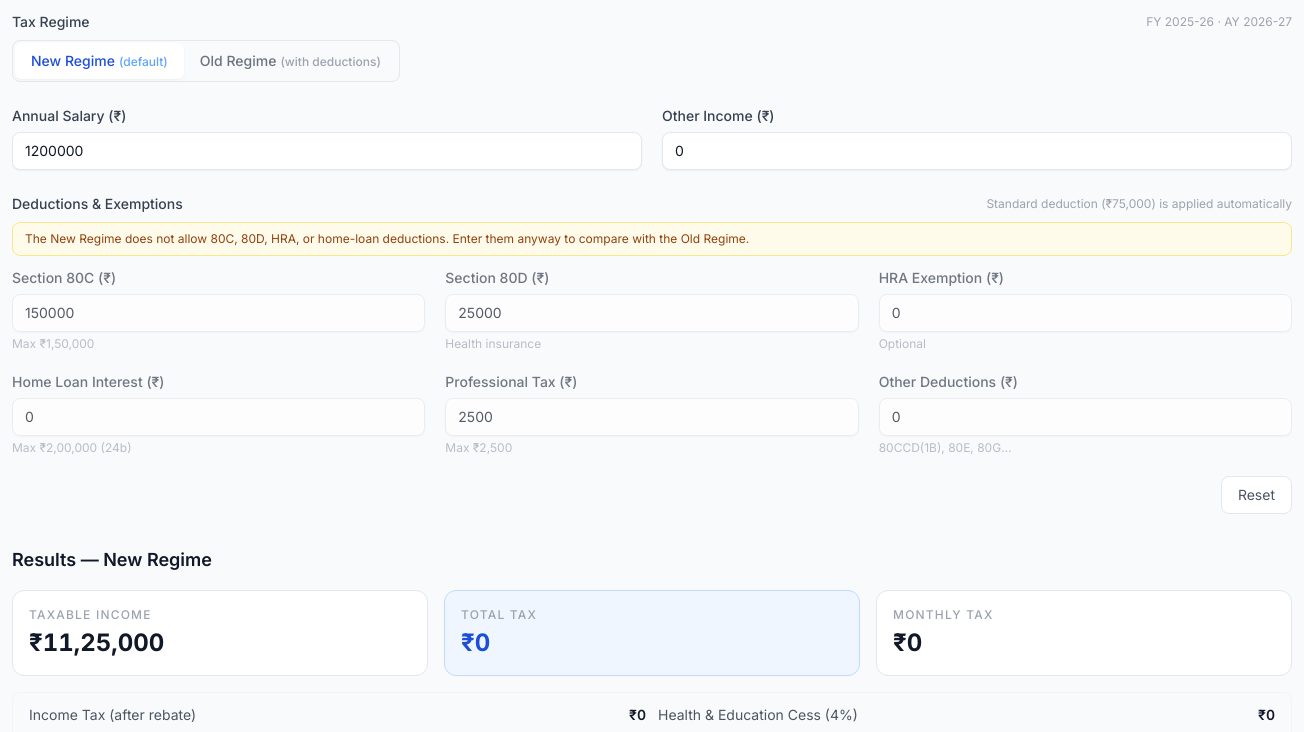
Test: IncomeTaxCalculator › reset restores default salary
Replace the text in the number field labelled "Annual Salary (₹)" with "9999999" at (327, 151), box [12,132,642,170]
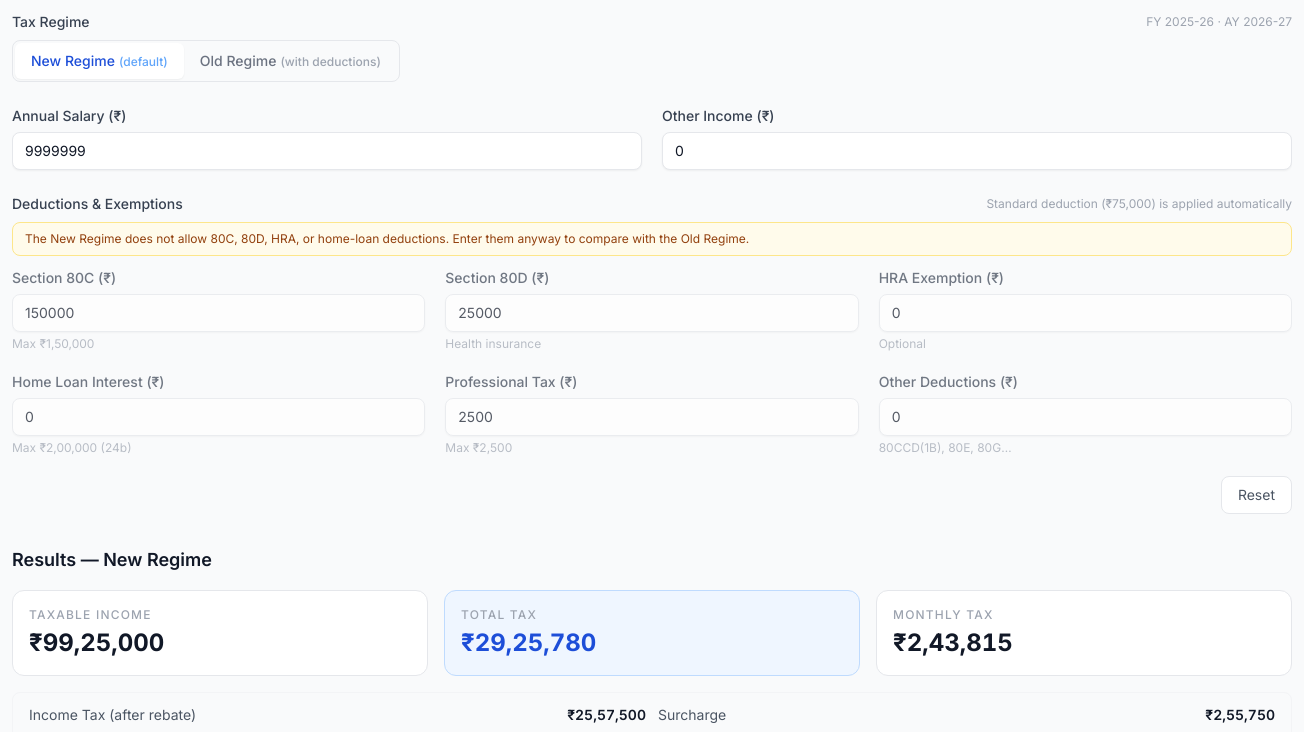
Click the button "Reset" at (1256, 495), box [1221,476,1292,514]
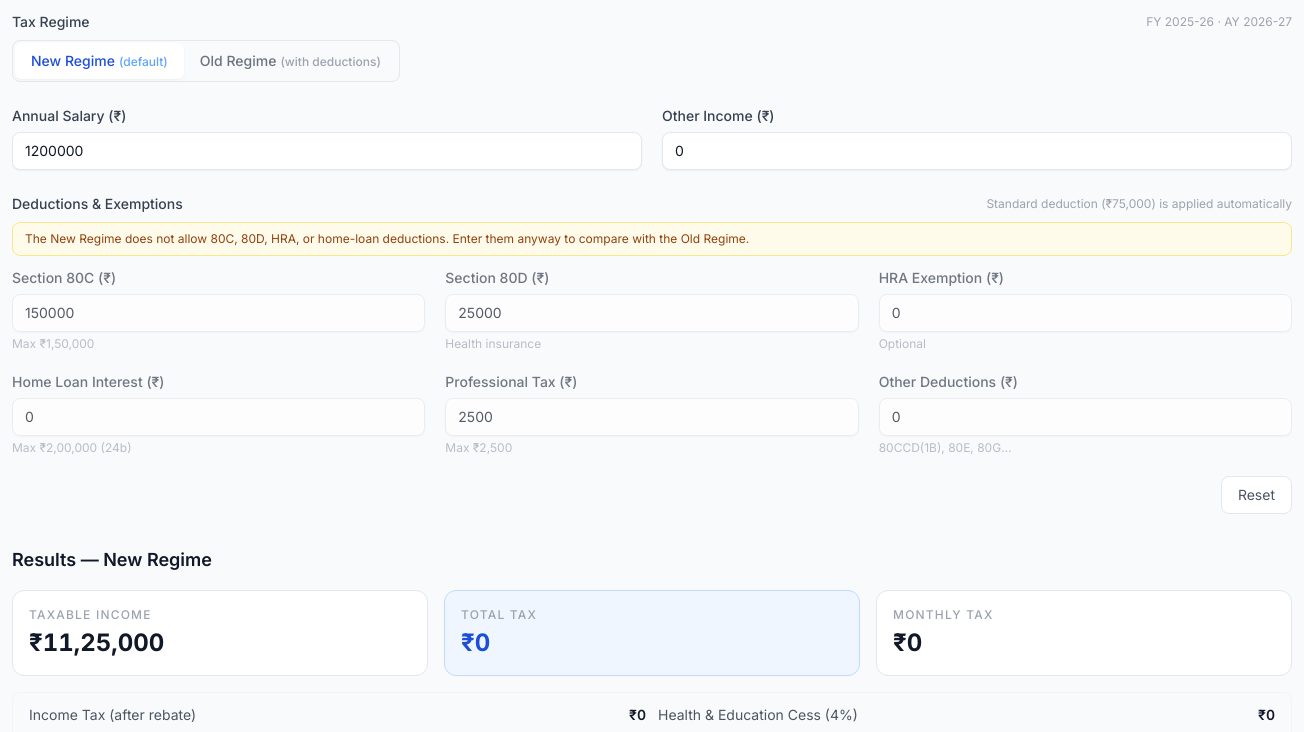
Check: the number field labelled "Annual Salary (₹)" holds "1200000", box [12,132,642,170]
